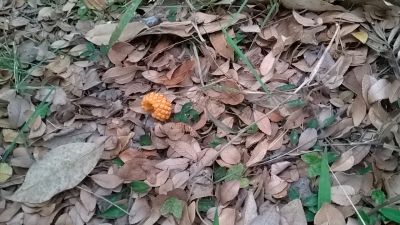eggs: (140, 92, 172, 122)
